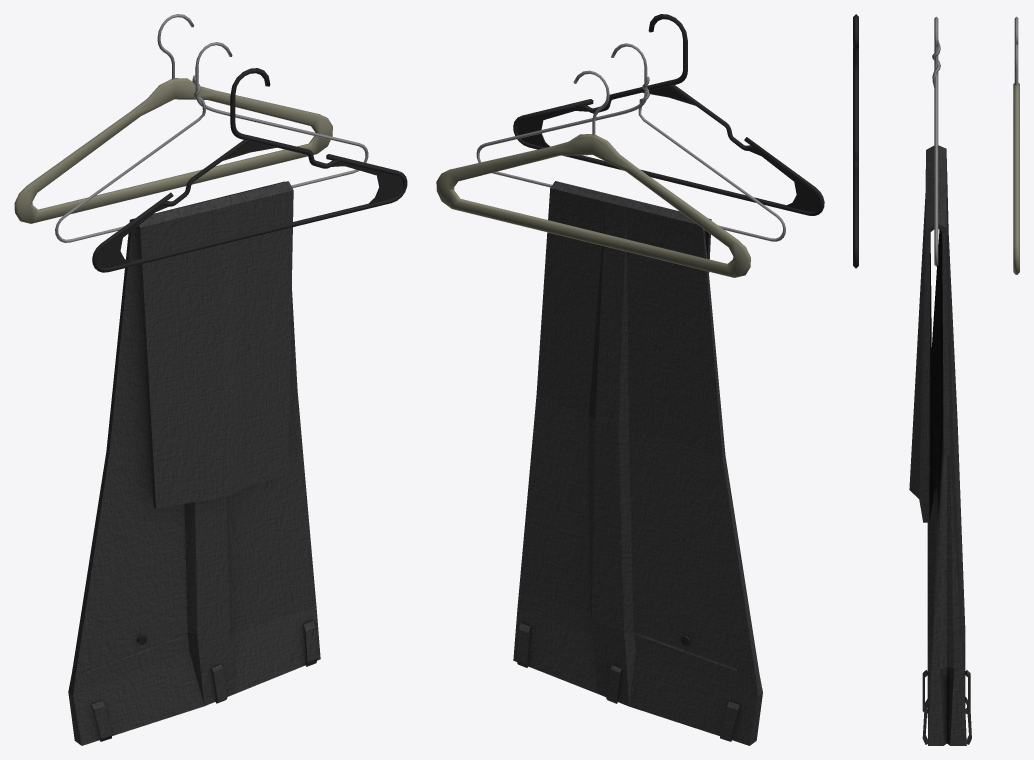
Rendered from pants.fbx.
The picture shows the model from 3 angles, left to right: view 1: azimuth 30°, elevation 25°; view 2: azimuth 150°, elevation 25°; view 3: azimuth 270°, elevation 25°; orthographic projection. The views are drawn at different scales.
Parts seen in each view (by area): view 1: Plane.008_Plane.003, Plane.010, BezierCurve.009_Plastic_Hanger.001, BezierCurve.010_Metal_Hook.001, Plane.006_Plane.001, Plane.009; view 2: Plane.008_Plane.003, Plane.010, BezierCurve.009_Plastic_Hanger.001, BezierCurve.010_Metal_Hook.001, Plane.006_Plane.001, Plane.009; view 3: Plane.008_Plane.003, BezierCurve.009_Plastic_Hanger.001, Plane.010, BezierCurve.010_Metal_Hook.001, Plane.009, BezierCurve.008_Metal_Hook.004.
Boxes of the visible parts, box(x1,y1,x2,y2) form: Plane.008_Plane.003: box(68, 181, 320, 745); Plane.010: box(14, 78, 332, 223); BezierCurve.009_Plastic_Hanger.001: box(92, 68, 407, 272); BezierCurve.010_Metal_Hook.001: box(55, 42, 368, 242); Plane.006_Plane.001: box(97, 141, 403, 268); Plane.009: box(91, 621, 317, 741); Plane.008_Plane.003: box(513, 181, 762, 745); Plane.010: box(436, 134, 750, 277); BezierCurve.009_Plastic_Hanger.001: box(513, 14, 824, 215); BezierCurve.010_Metal_Hook.001: box(476, 43, 785, 241); Plane.006_Plane.001: box(517, 86, 819, 211); Plane.009: box(516, 623, 740, 741); Plane.008_Plane.003: box(909, 145, 966, 745); BezierCurve.009_Plastic_Hanger.001: box(853, 14, 858, 268); Plane.010: box(1013, 83, 1019, 274); BezierCurve.010_Metal_Hook.001: box(932, 16, 940, 266); Plane.009: box(922, 670, 971, 744); BezierCurve.008_Metal_Hook.004: box(1014, 16, 1018, 85).
Bounding box in the file's own units: 482 × 978 × 208.
